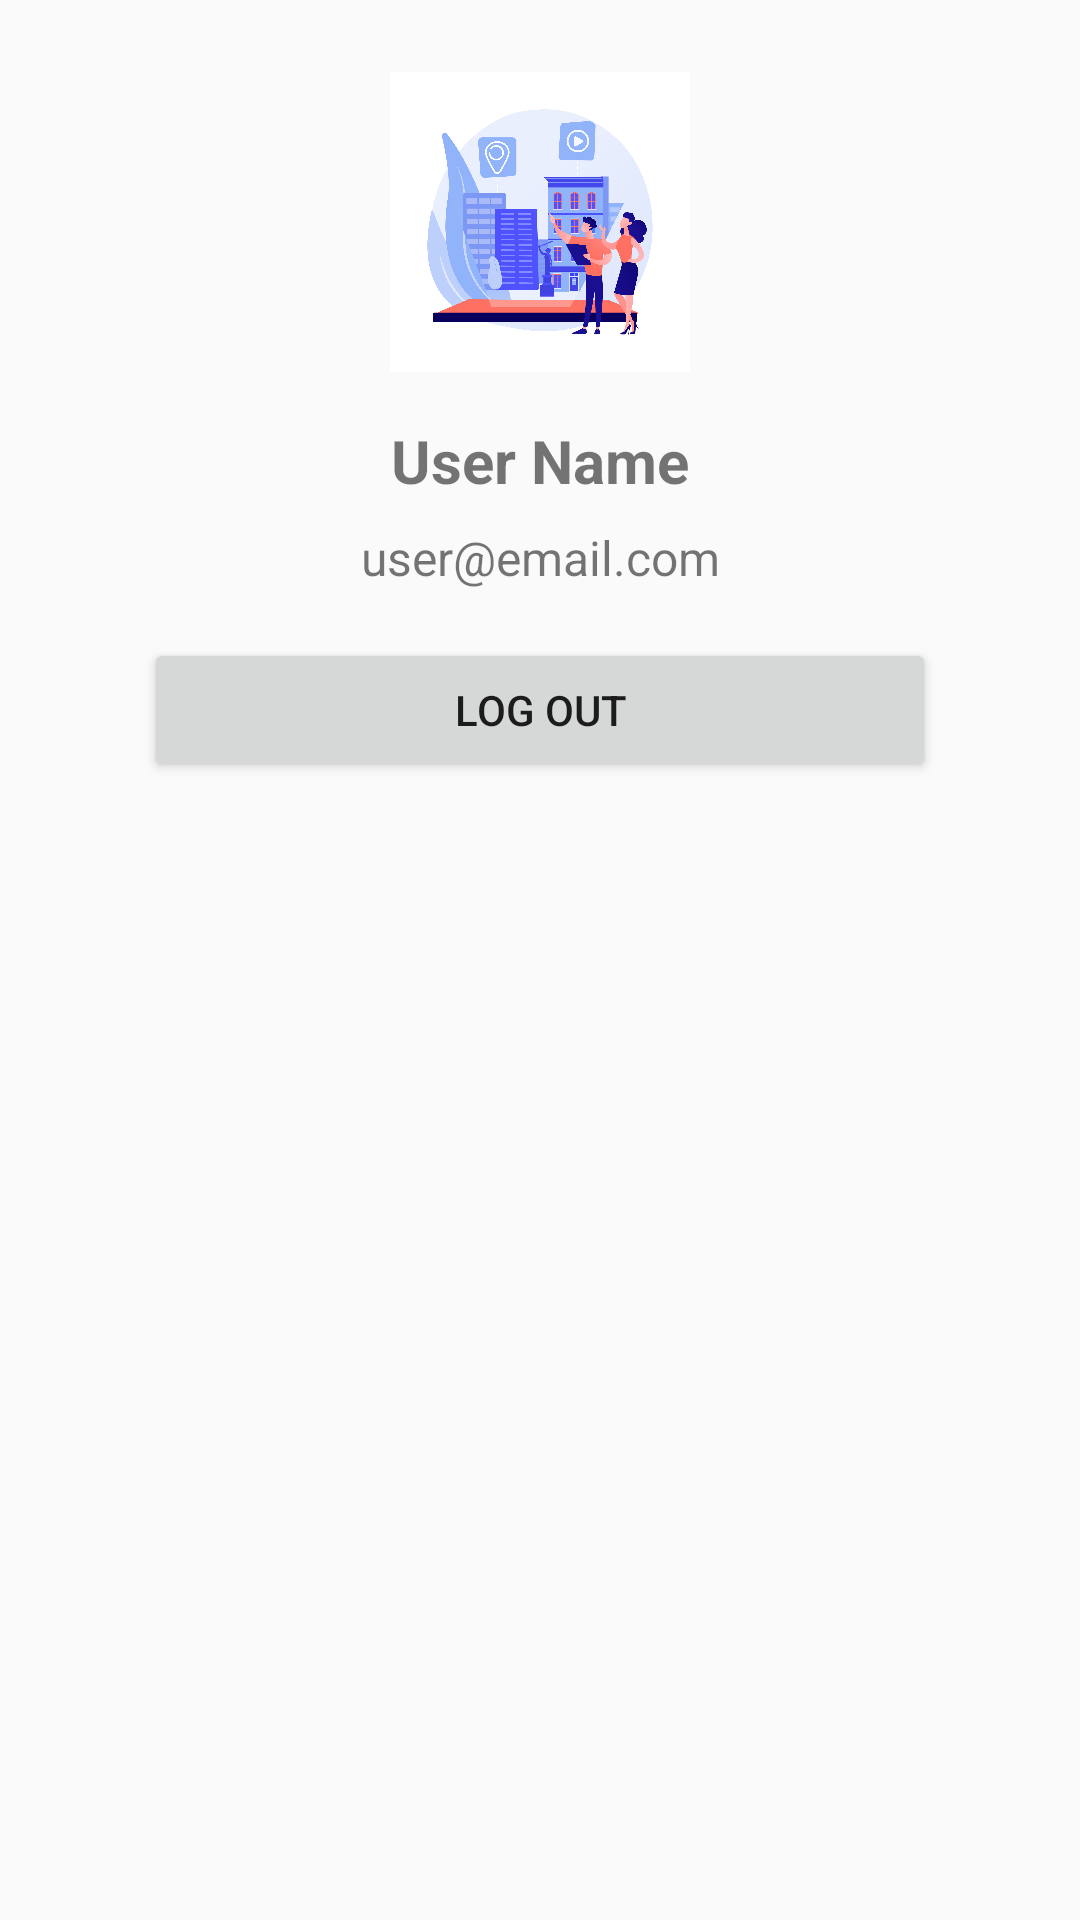

Where icons sit on this 1080px×1920px app screen, as box(x1, y1, x2, y2):
onboarding: box(427, 121, 653, 335)
